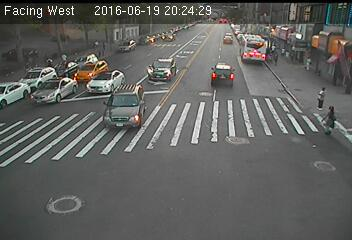neg: (159, 58, 179, 85), (238, 38, 257, 63), (142, 58, 160, 83), (289, 29, 304, 49), (108, 27, 122, 46), (145, 30, 157, 46)
pos: (319, 104, 344, 137), (314, 83, 332, 107), (301, 53, 317, 73), (57, 49, 71, 68)
